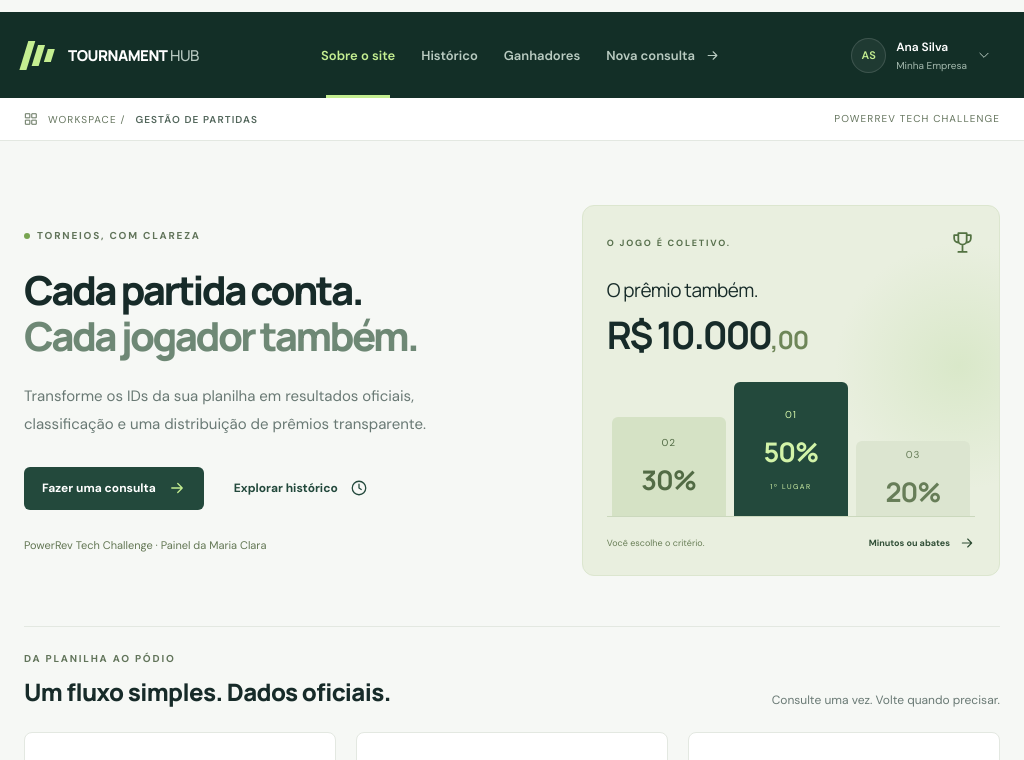
Test: restaura sessão e logout retorna ao login
Check: the navigation bar is shown, box [308,12,733,98]
Click the button "AS Ana Silva Minha Empresa": x=921, y=55 [842,28,1000,82]
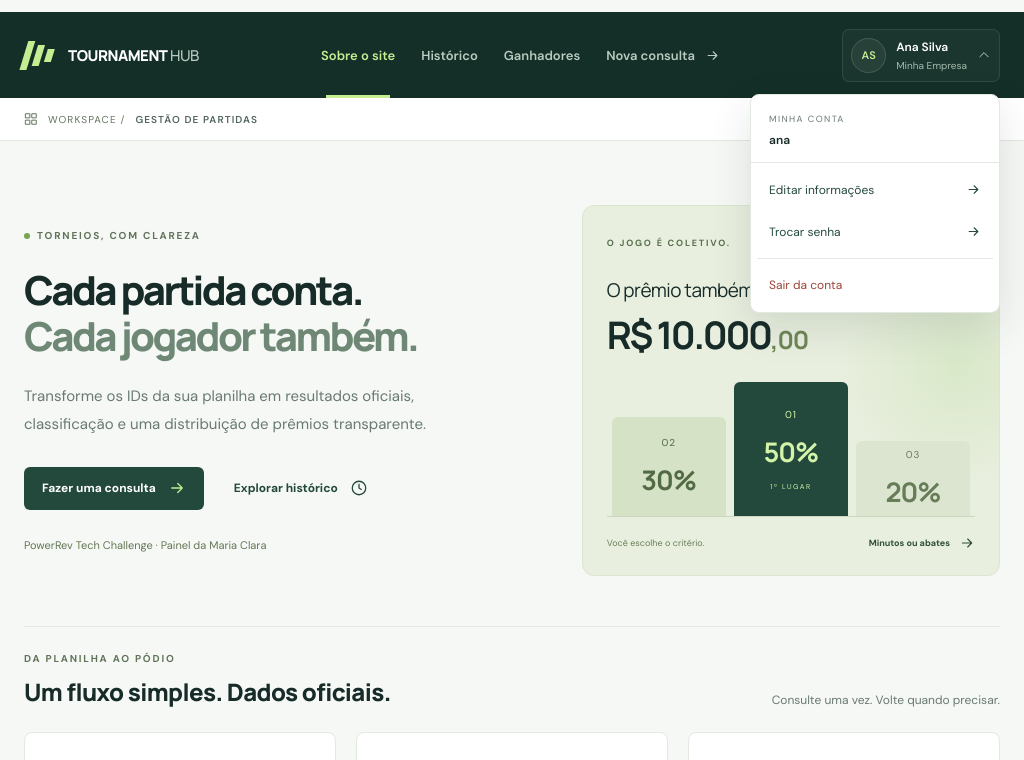
Click the button "Sair da conta": x=875, y=284 [757,264,993,306]
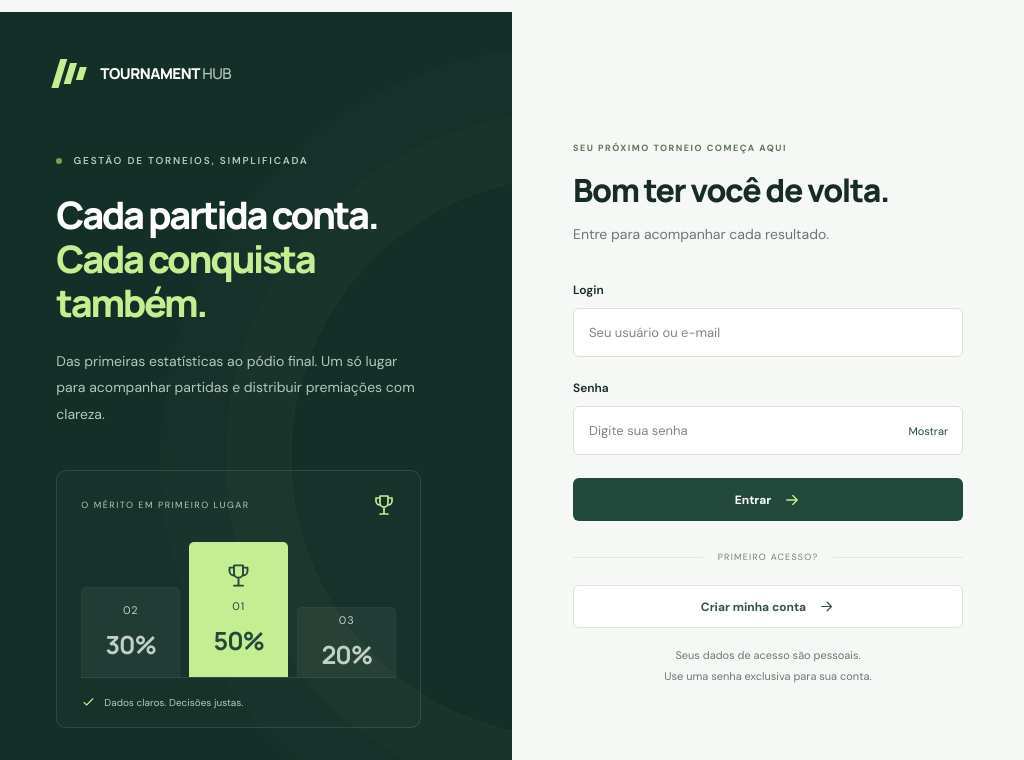
Check: the navigation bar is gone
Check: the field named "login" is shown, box [573,308,963,357]
